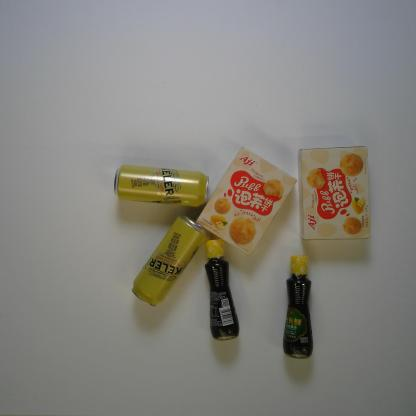Alcohol: (131, 214, 207, 309), (110, 164, 210, 210)
Dessert: (192, 144, 298, 257), (297, 144, 373, 242)
Seasoner: (204, 237, 242, 343), (281, 252, 316, 362)
